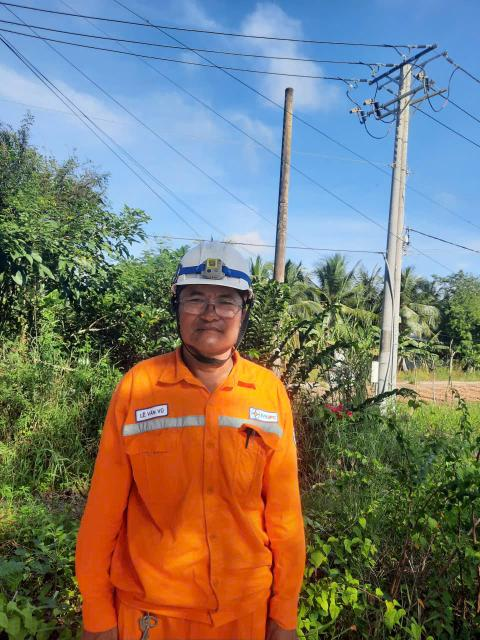helmet: (164, 219, 265, 298)
